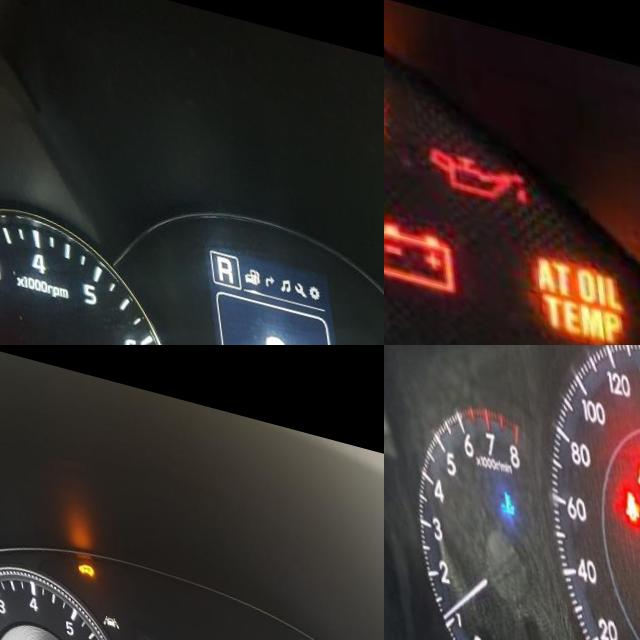LaneCenteringOff: (96, 599, 113, 615)
Seat Belt: (616, 471, 637, 507)
